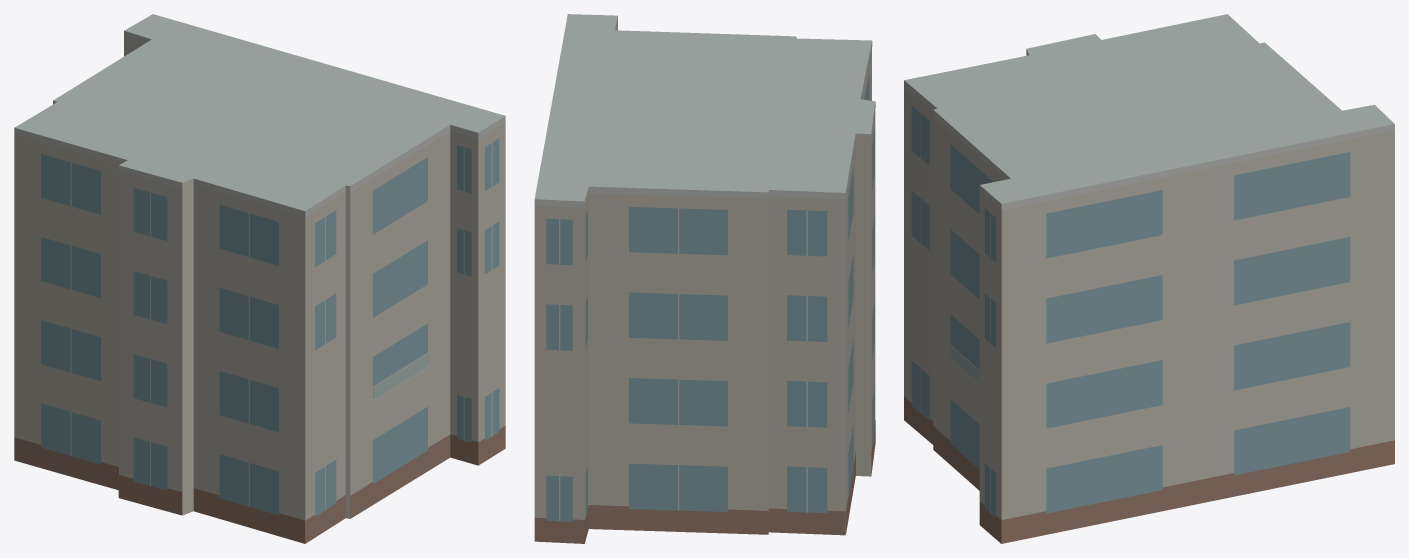
Rendered from survey-upis-32724164.glb.
3 views of the same model, side by side, from view 1: azimuth 30°, elevation 25°; view 2: azimuth 150°, elevation 25°; view 3: azimuth 270°, elevation 25° (orthographic). The views are drawn at different scales.
Visible parts, largest first — view 1: survey-upis-32724164.tmp; view 2: survey-upis-32724164.tmp; view 3: survey-upis-32724164.tmp.
Part boxes in pixels (<box>): survey-upis-32724164.tmp: <box>14,14,505,543</box>; survey-upis-32724164.tmp: <box>534,14,875,543</box>; survey-upis-32724164.tmp: <box>904,14,1394,543</box>.
Size of the model in its own units: 15.58 by 13 by 17.01.
